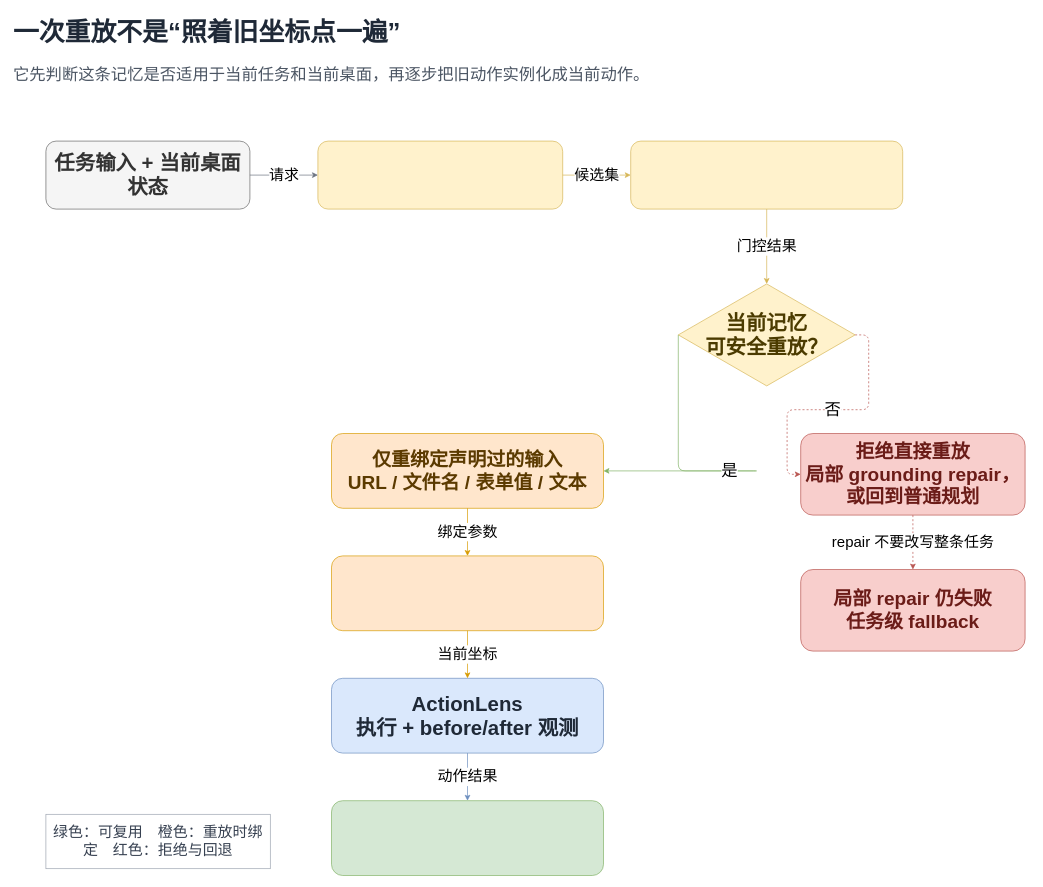
Image size: 1043x887. Some labels were removed from this diagram. The shapes that lost their labels are listed below. From the top down, each one's centre as x and y in pixels, then its label:
At point (440, 174): "检索 active memories 按意图、应用、任务类型召回".
At point (766, 174): "Compatibility gate 生命周期 / 校验 / 动作 / 前置条件".
At point (467, 593): "IBTR / IMTR 用 target crop 在当前截图中重瞄准".
At point (467, 838): "Step / artifact evaluator 结果成立才保留这条路径".
